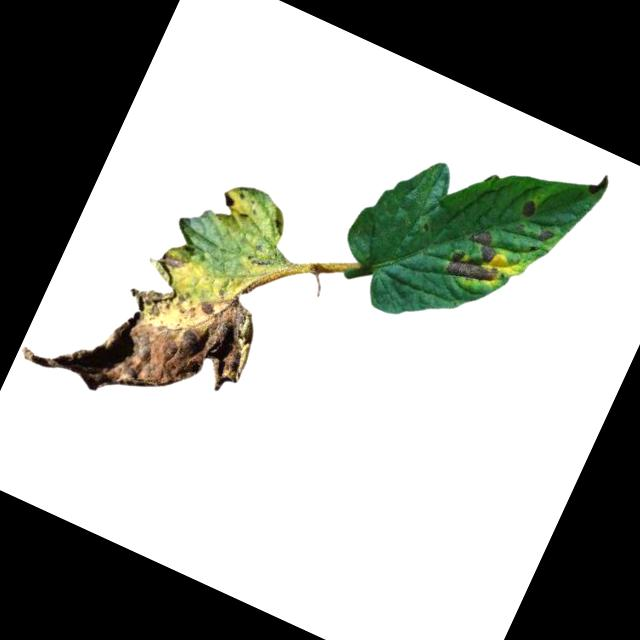Early_blight: (16, 211, 276, 447), (442, 221, 513, 295), (586, 169, 612, 200), (516, 196, 539, 223), (536, 227, 557, 246), (217, 191, 236, 211)
